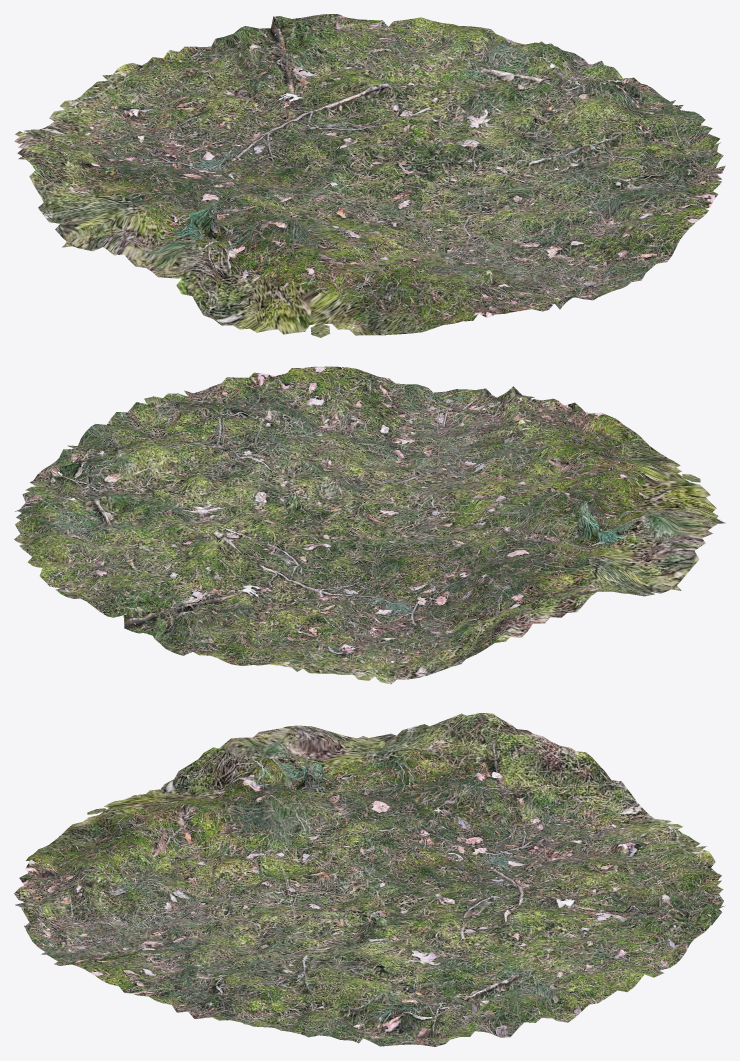
The model's file is ground.glb.
3 views of the same model, one above another, from view 1: azimuth 30°, elevation 25°; view 2: azimuth 150°, elevation 25°; view 3: azimuth 270°, elevation 25° (orthographic).
Visible parts, largest first — view 1: _material_0; view 2: _material_0; view 3: _material_0.
Boxes of the visible parts, bbox=[...] form: _material_0: bbox=[14, 14, 725, 337]; _material_0: bbox=[14, 366, 725, 684]; _material_0: bbox=[14, 713, 725, 1046].
Size of the model in its own units: 0.0283 by 0.00278 by 0.0284.
1 material, 1 textured.
